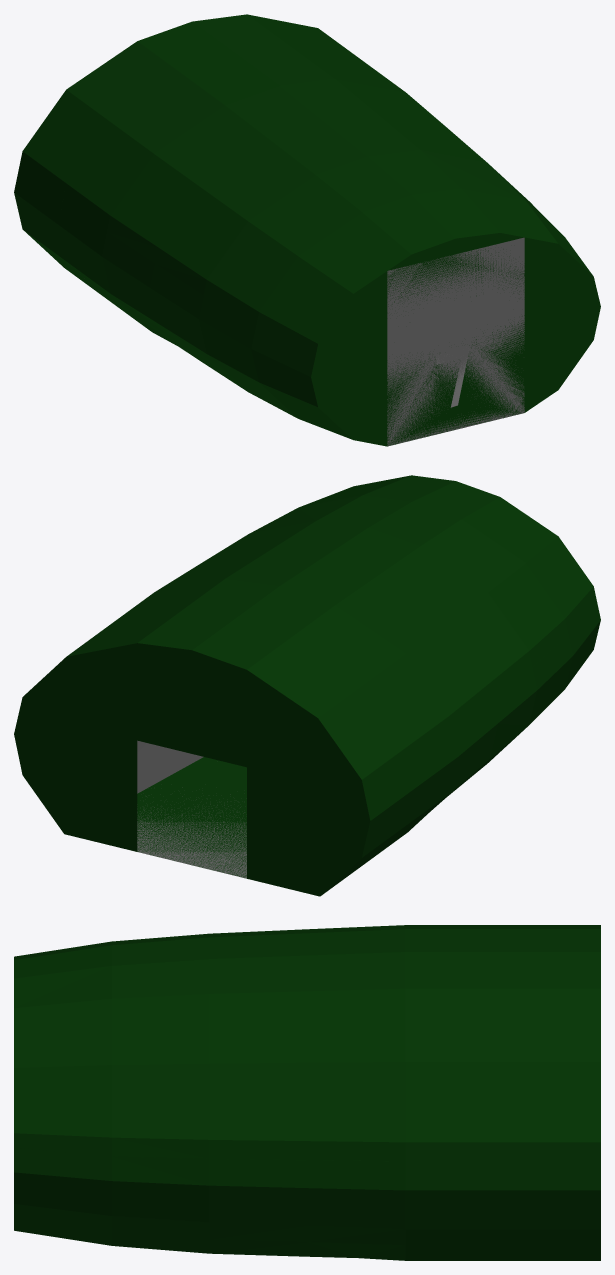
3 renders of one model, top to bottom at view 1: azimuth 30°, elevation 25°; view 2: azimuth 150°, elevation 25°; view 3: azimuth 270°, elevation 25°, orthographic. The views are drawn at different scales.
Parts seen in each view (by area): view 1: ShapeIndexedFaceSet_ShapeIndexedFaceSet.001, ShapeIndexedFaceSet.001_ShapeIndexedFaceSet.002, ShapeIndexedFaceSet.007_ShapeIndexedFaceSet.008; view 2: ShapeIndexedFaceSet_ShapeIndexedFaceSet.001, ShapeIndexedFaceSet.001_ShapeIndexedFaceSet.002, ShapeIndexedFaceSet.007_ShapeIndexedFaceSet.008; view 3: ShapeIndexedFaceSet_ShapeIndexedFaceSet.001, ShapeIndexedFaceSet.001_ShapeIndexedFaceSet.002.
Part boxes in pixels (box(x1,y1,x2,y2)): ShapeIndexedFaceSet_ShapeIndexedFaceSet.001: box(19, 14, 592, 439); ShapeIndexedFaceSet.001_ShapeIndexedFaceSet.002: box(14, 167, 600, 446); ShapeIndexedFaceSet.007_ShapeIndexedFaceSet.008: box(84, 237, 524, 446); ShapeIndexedFaceSet_ShapeIndexedFaceSet.001: box(67, 475, 596, 895); ShapeIndexedFaceSet.001_ShapeIndexedFaceSet.002: box(14, 599, 600, 896); ShapeIndexedFaceSet.007_ShapeIndexedFaceSet.008: box(137, 740, 246, 878); ShapeIndexedFaceSet_ShapeIndexedFaceSet.001: box(14, 925, 600, 1260); ShapeIndexedFaceSet.001_ShapeIndexedFaceSet.002: box(14, 1147, 600, 1245).
Size of the model in its own units: 234 by 135 by 300.
